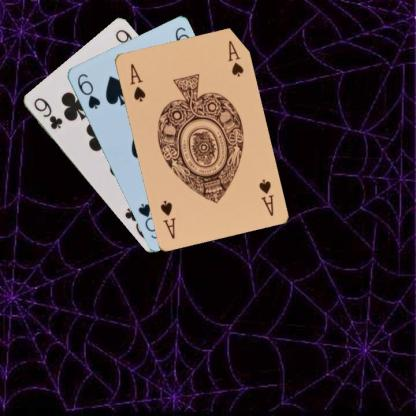6s: (74, 70, 102, 110)
9c: (30, 94, 64, 130)
As: (127, 61, 147, 103), (256, 176, 274, 217)
